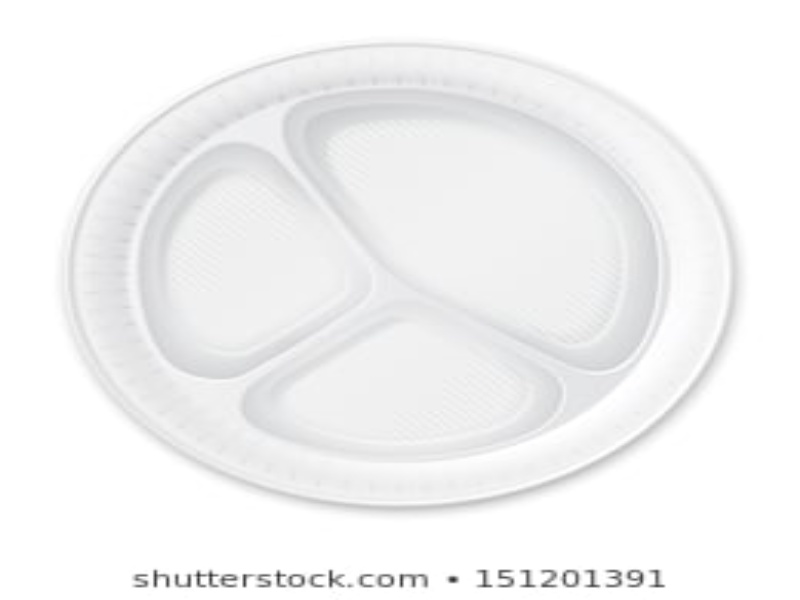plastic-plate: (48, 34, 755, 519)
